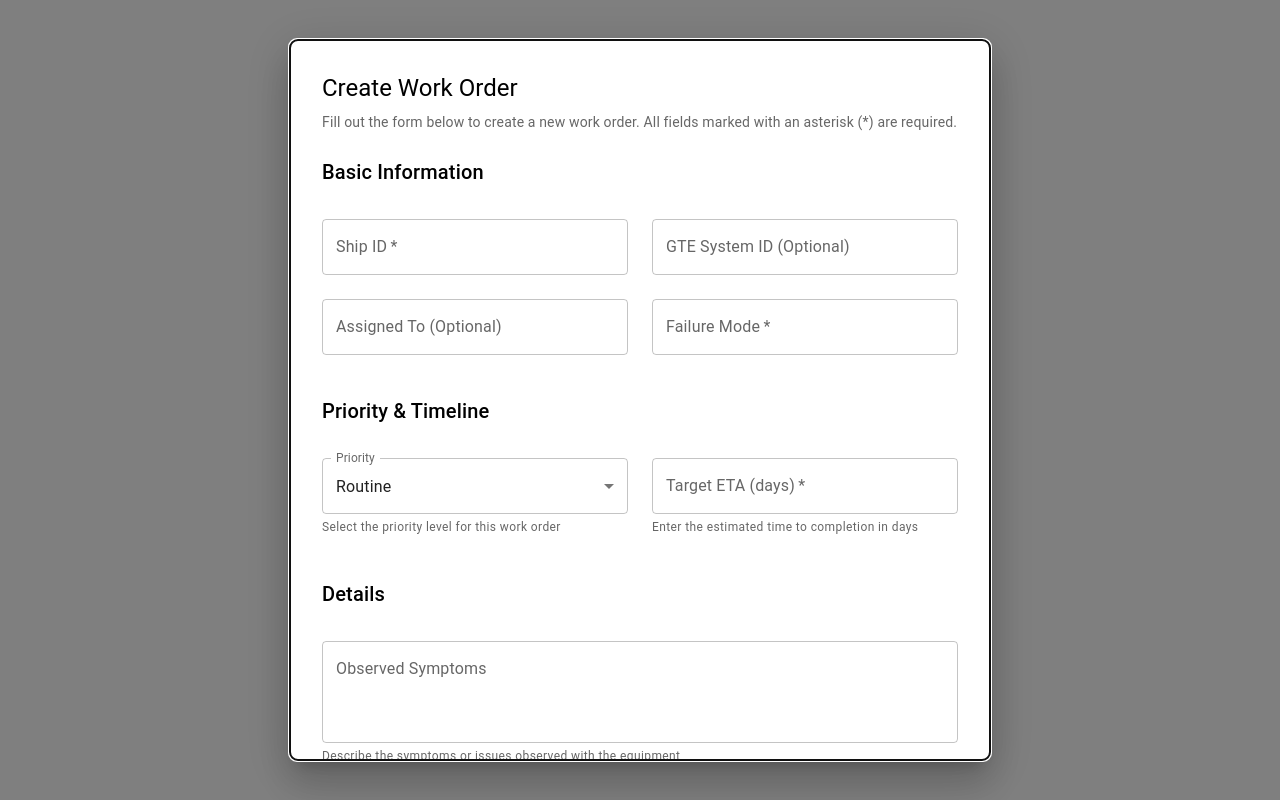
it: WorkOrderModal › validates ETA field for numeric input
The image size is (1280, 800).
In the number field: (805, 486) [652,458,958,514], type "invalid"
(page scrolled)
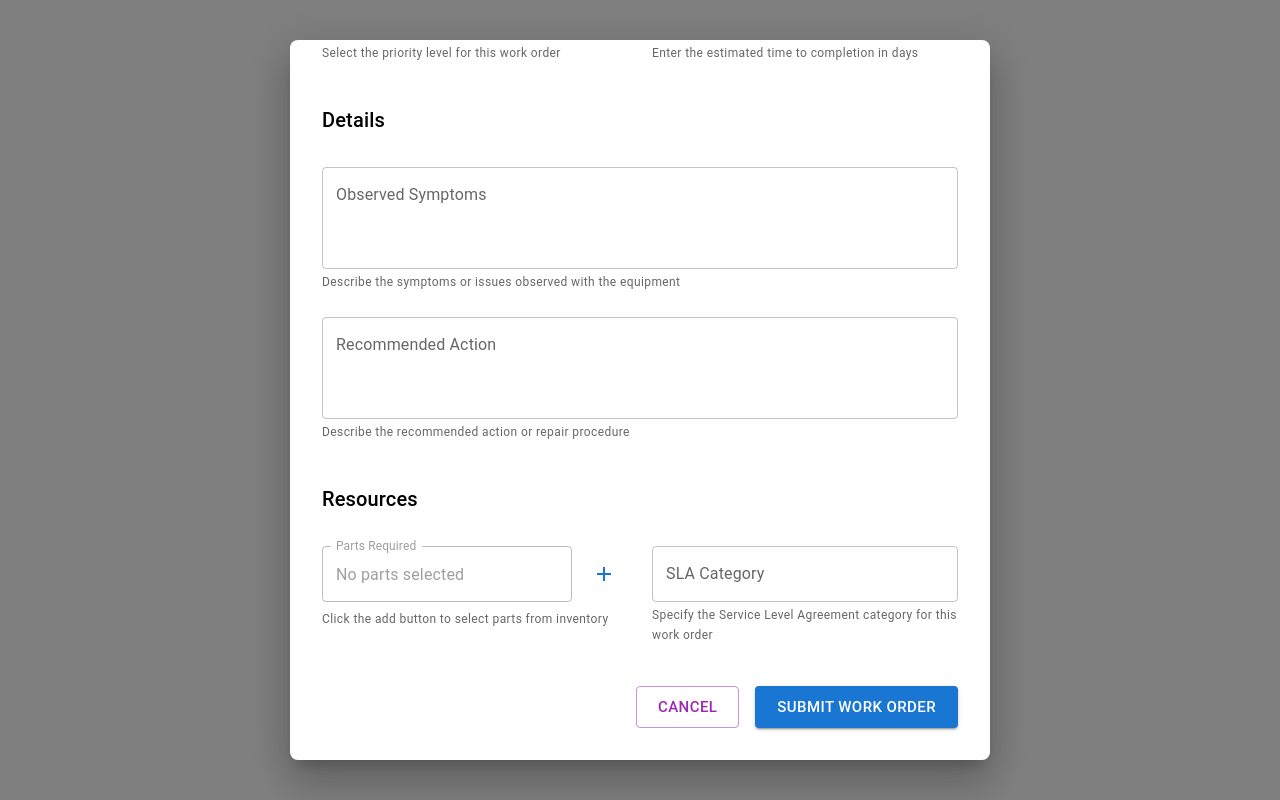
Click the button "Submit Work Order": (857, 707) [755,686,958,728]
(page scrolled)
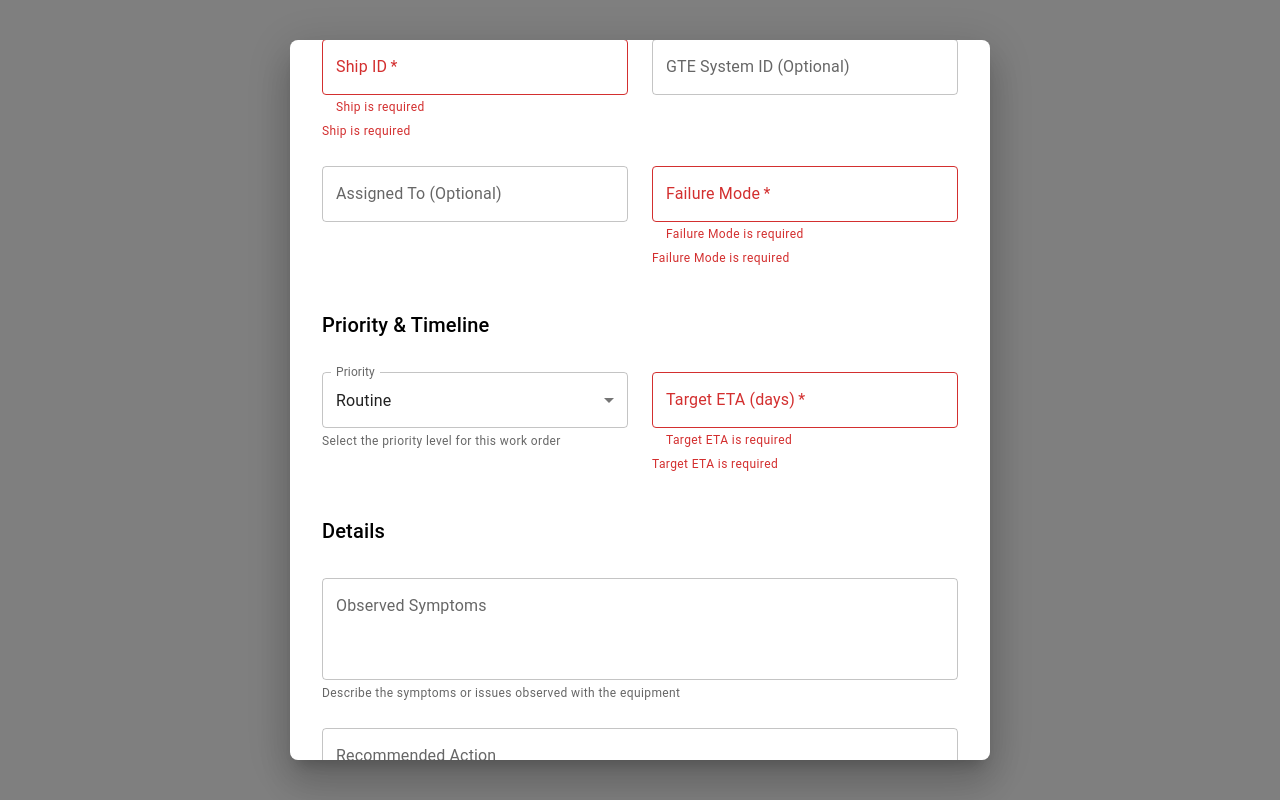
Now the number field is shown, box [652,372,958,428]
